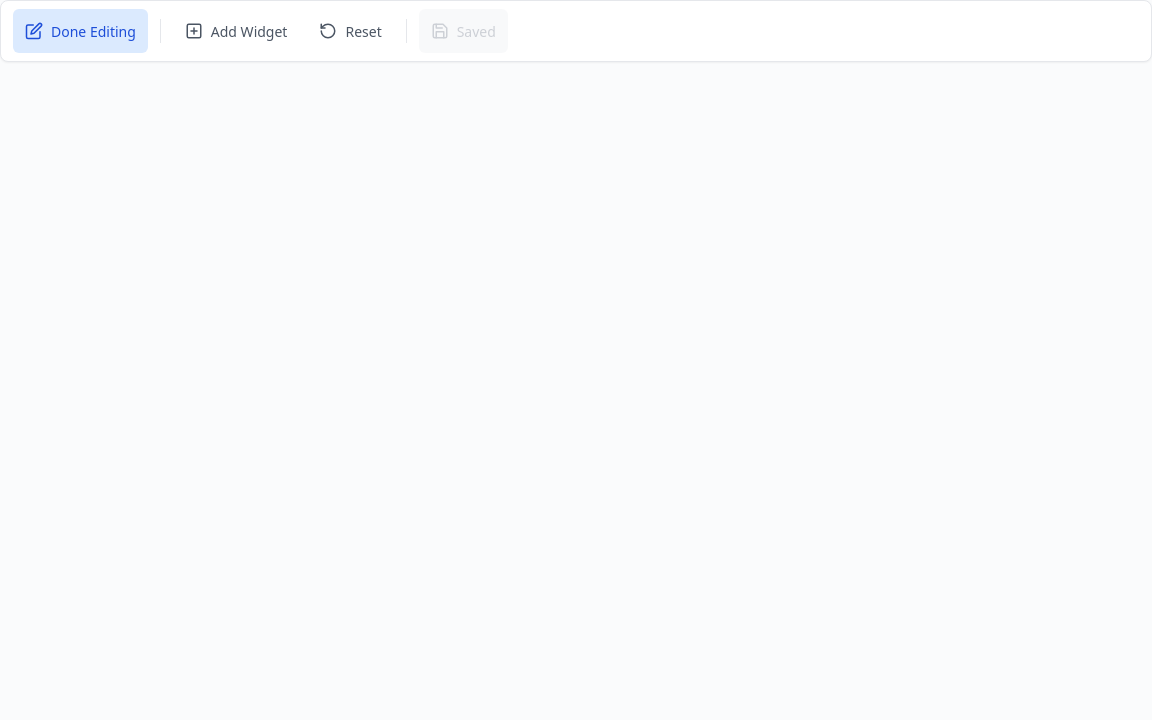
Scenario: DashboardCustomizer › Add Widget › opens widget picker when add widget button is clicked
What coordinates should you click on to do the following:
click the button "Add Widget"
I would click on:
 (236, 31)
Its box is [173,9,299,53].
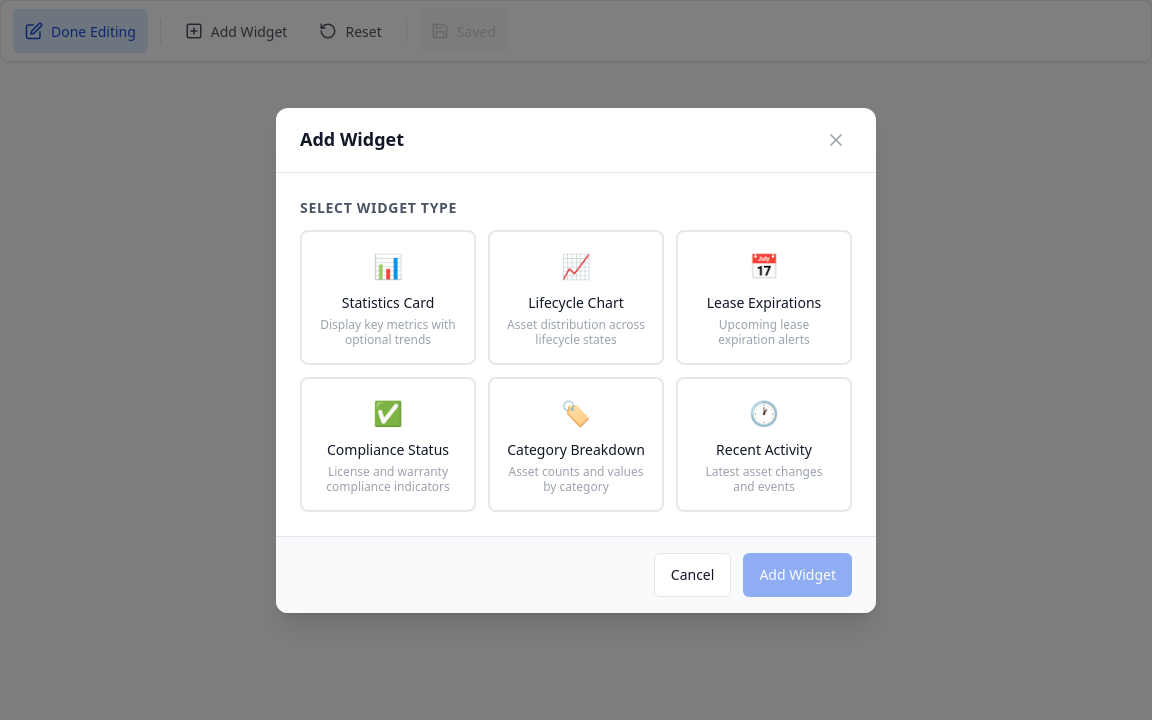
Expected: the dialog "Add Widget" is shown, [276,108,876,612]
